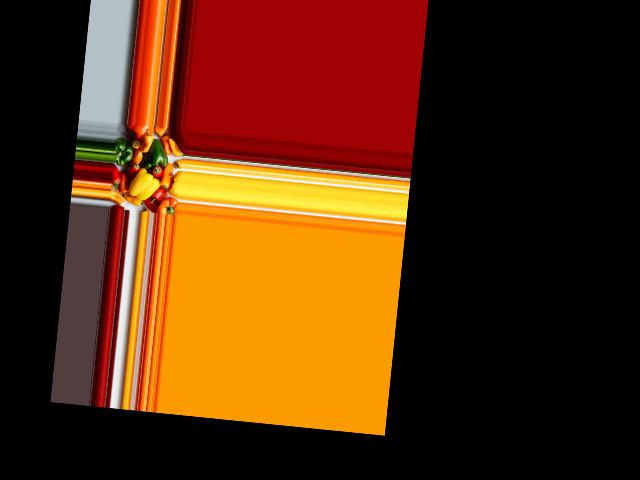bell_pepper: (110, 166, 124, 189)
